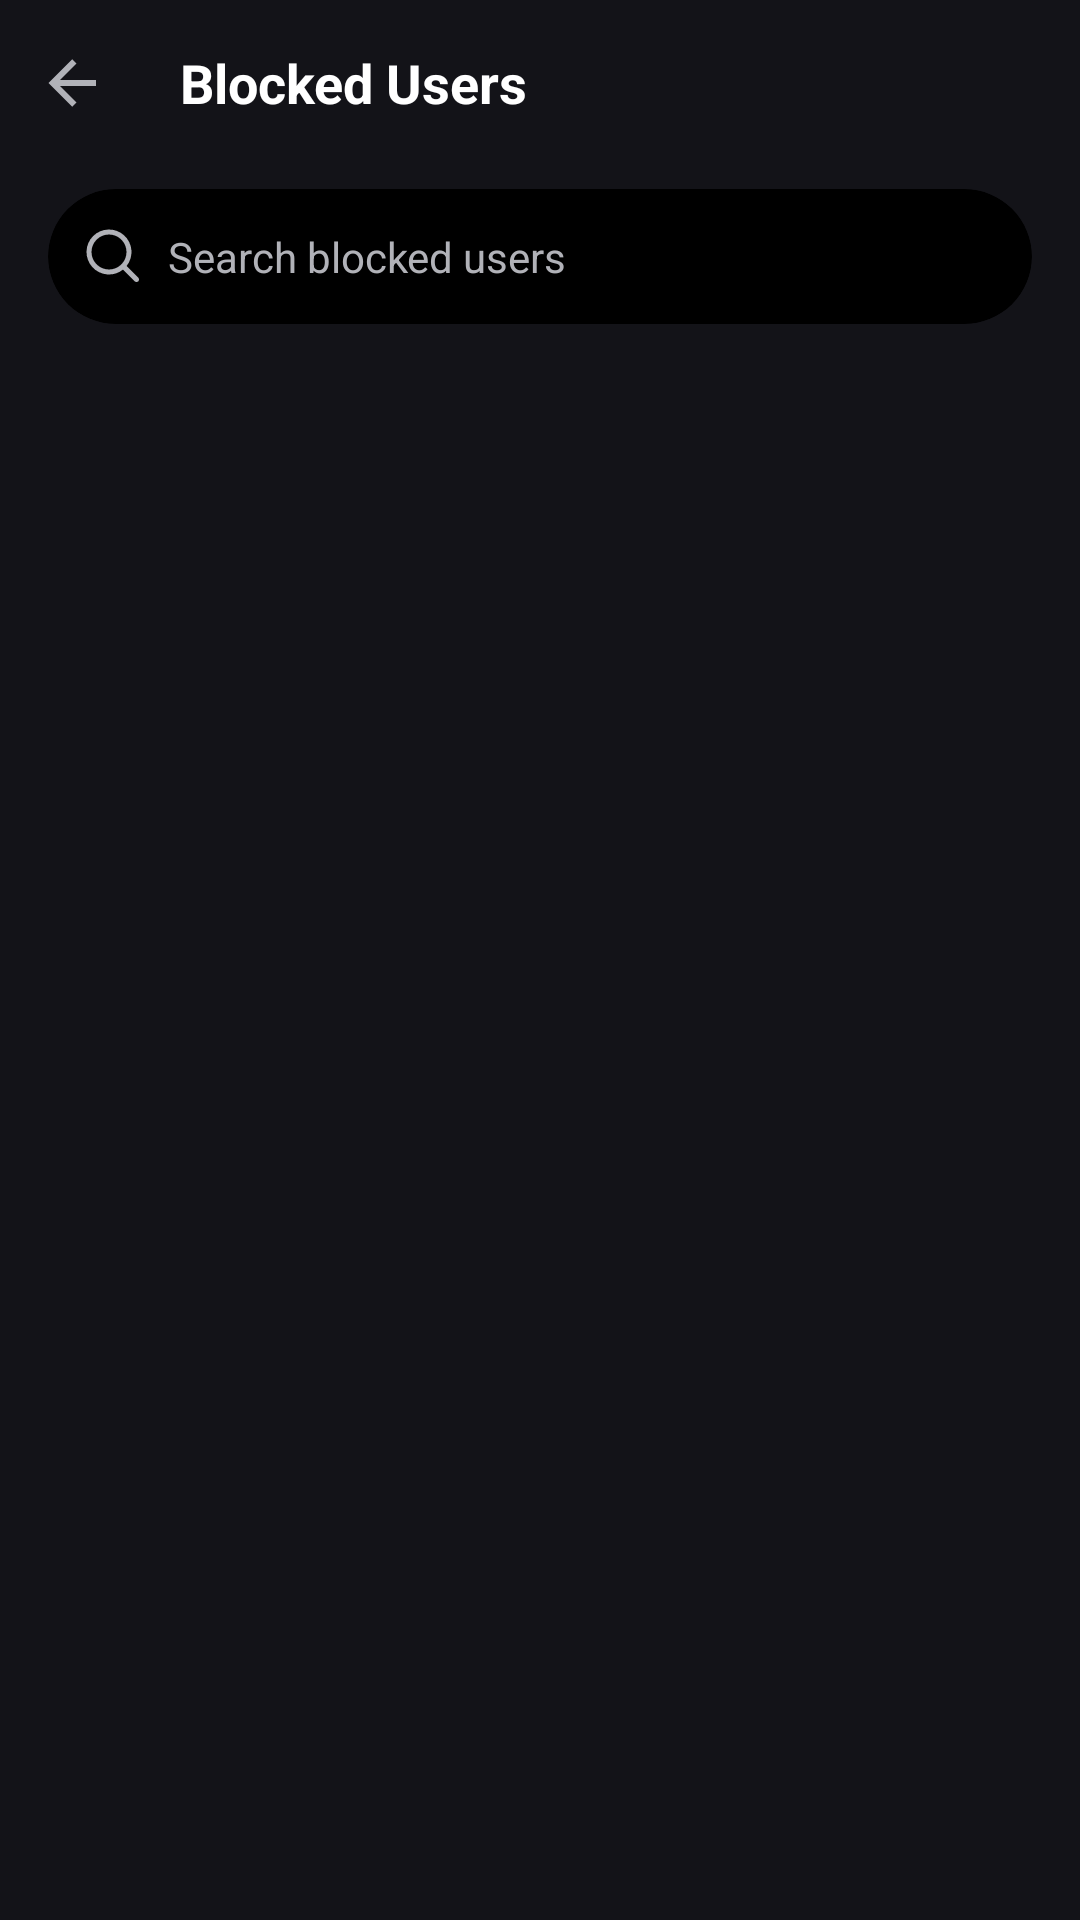

Icons on this 1080px×1920px Android screen, each with its box as [x1=x1, y1=y1, x2=x2, y2=y2]:
Back: [x1=49, y1=59, x2=96, y2=107]
